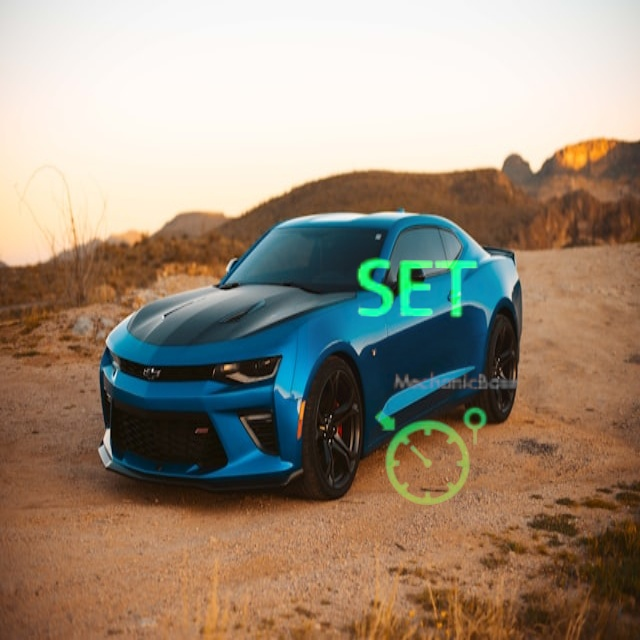symbol: (308, 181, 527, 400), (349, 377, 512, 540)
